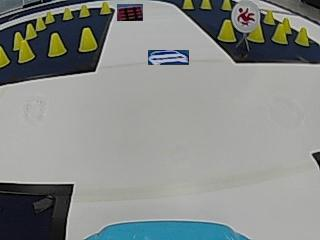cone: (216, 19, 236, 42), (47, 32, 66, 56), (78, 27, 96, 52), (272, 21, 287, 44), (18, 41, 33, 62), (248, 26, 264, 43), (295, 26, 308, 46), (0, 46, 9, 68), (25, 22, 35, 40), (264, 8, 274, 25), (35, 16, 46, 31), (100, 1, 111, 15), (62, 7, 73, 21), (13, 31, 21, 50), (79, 4, 89, 18), (44, 10, 54, 24), (182, 0, 194, 10), (201, 0, 211, 10), (221, 0, 231, 10)
tumble: (232, 2, 259, 29)
